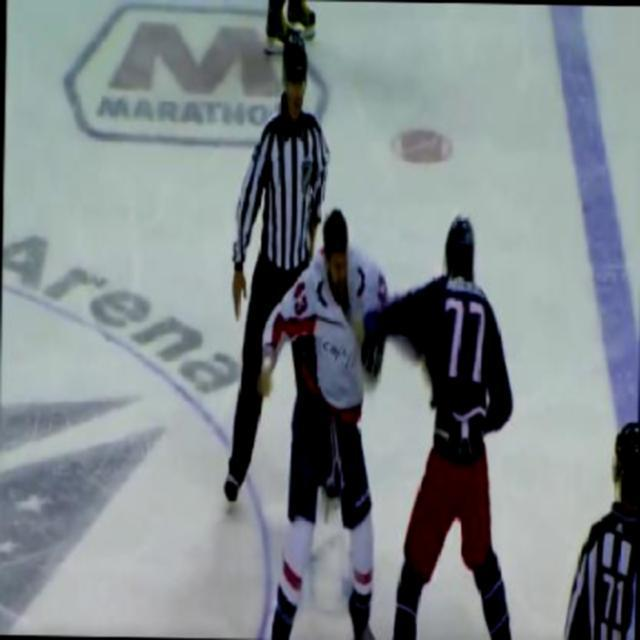fight: (249, 202, 523, 638)
